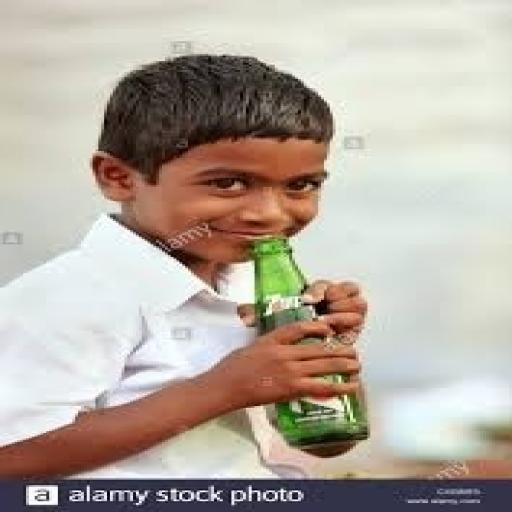drinking: (243, 234, 367, 449)
